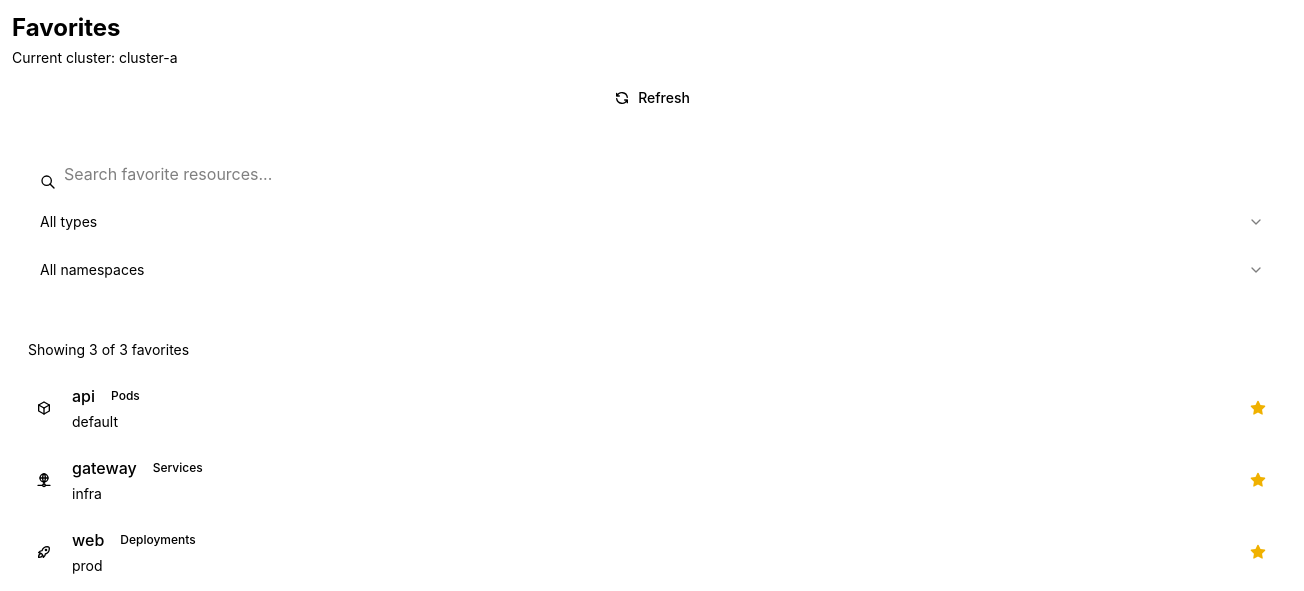
Test: FavoritesPage › renders current cluster favorites and filters them by search query
Expected: the text "Current cluster: cluster-a" is shown, x1=12 y1=49 x2=178 y2=66
Expected: the text "api" is shown, x1=72 y1=384 x2=95 y2=408
Type "gate" into the field labelled "Search favorite resources" at (652, 174), box x1=28 y1=156 x2=1276 y2=192
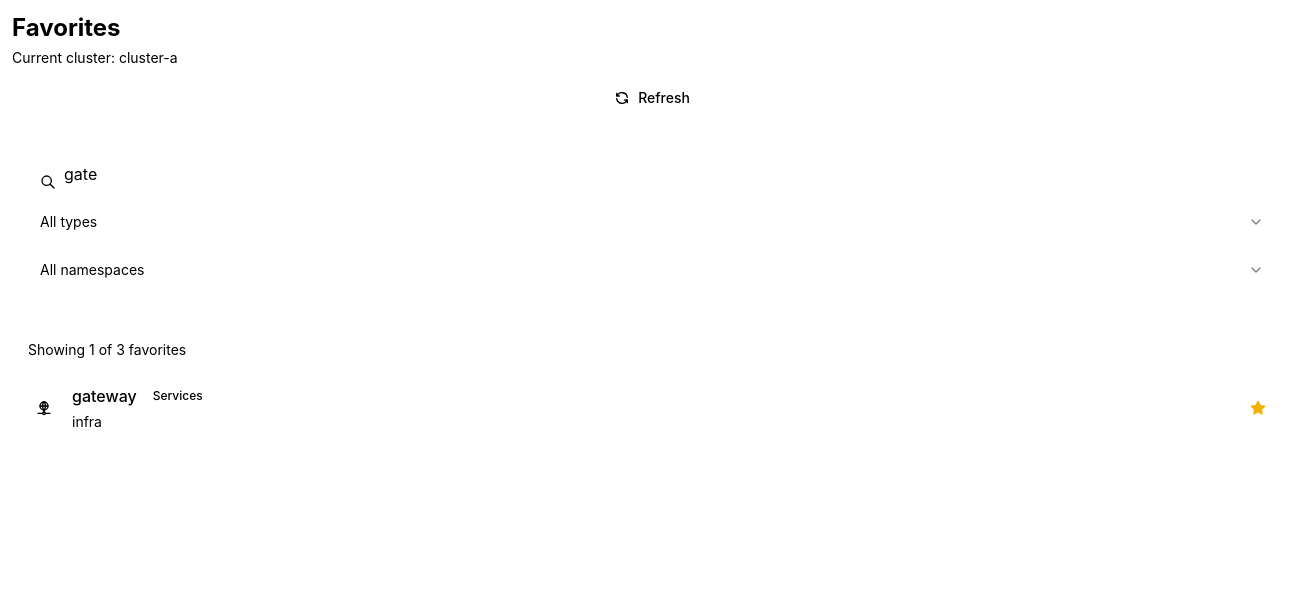
Expected: the text "gateway" is shown, x1=72 y1=384 x2=137 y2=408
Result: the button "api" is gone
